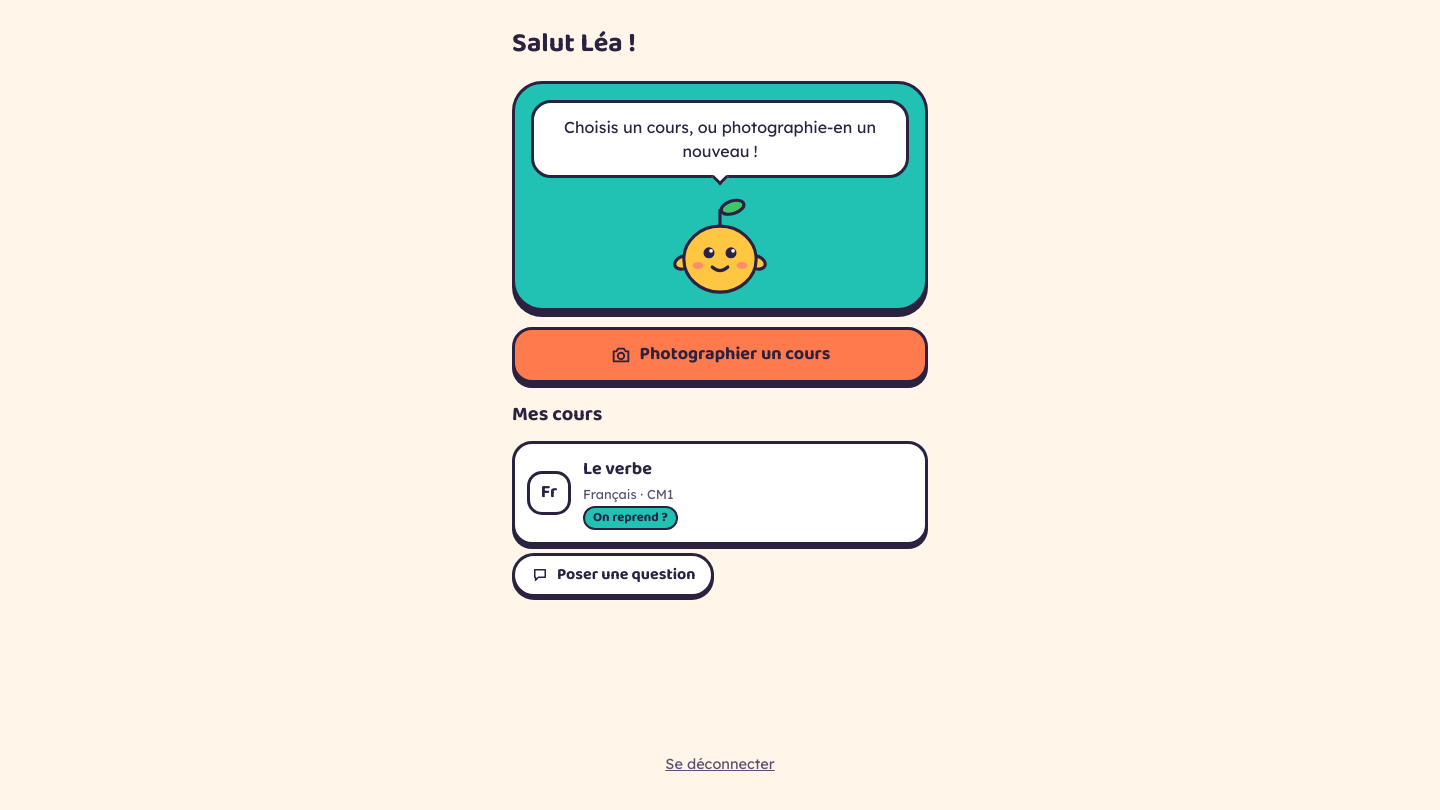
MainScreens: the Jouer tab › the tabs move between Lire and Jouer, and back home; a single « Accueil » button
Click the button "Fr Le verbe Français · CM1 On reprend ?" at coordinates (549, 492), box x1=512 y1=440 x2=928 y2=544
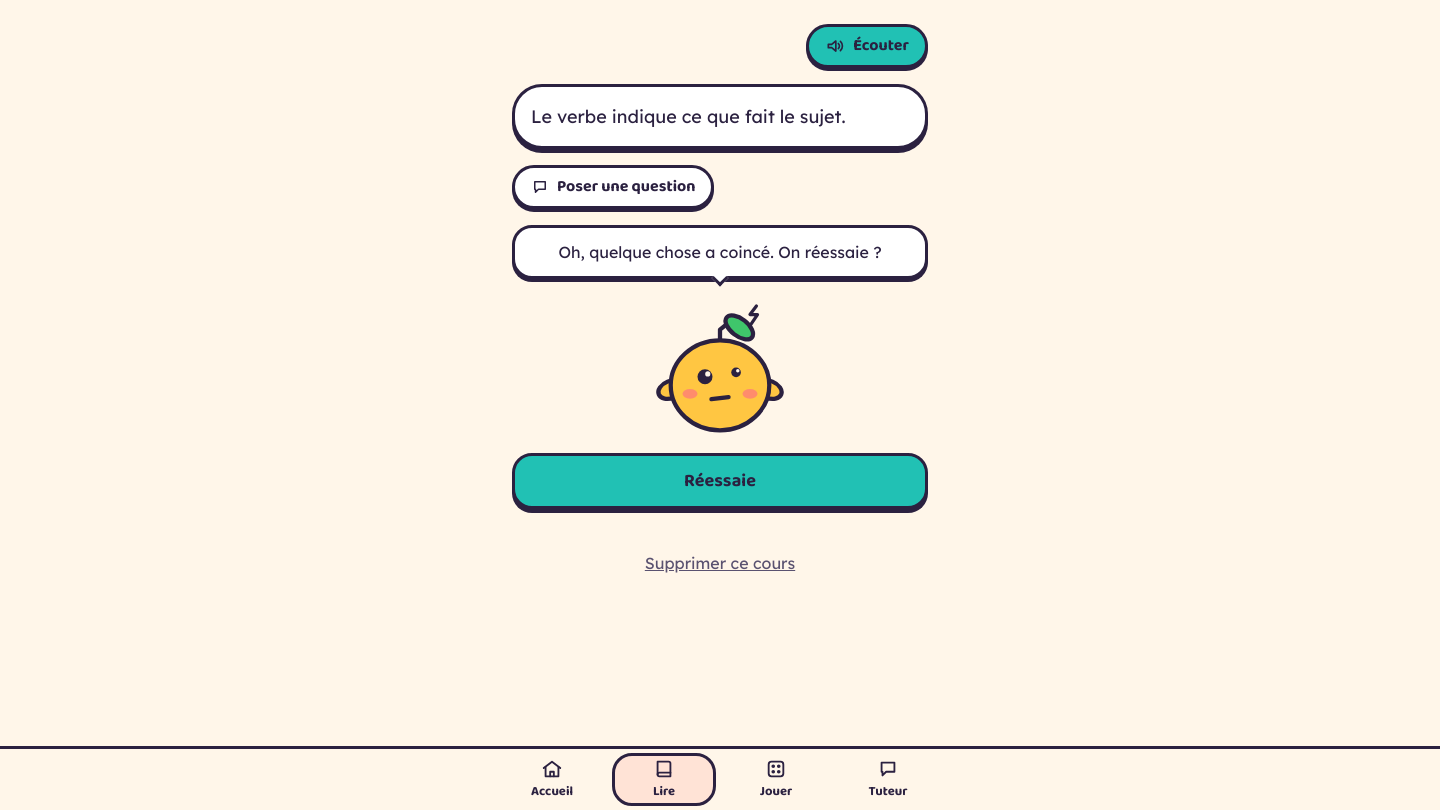
expect the text "Le verbe indique ce que fait le sujet." is shown: met, box x1=531 y1=105 x2=846 y2=128
Click the button "Jouer" at coordinates (776, 779), box x1=720 y1=748 x2=832 y2=809
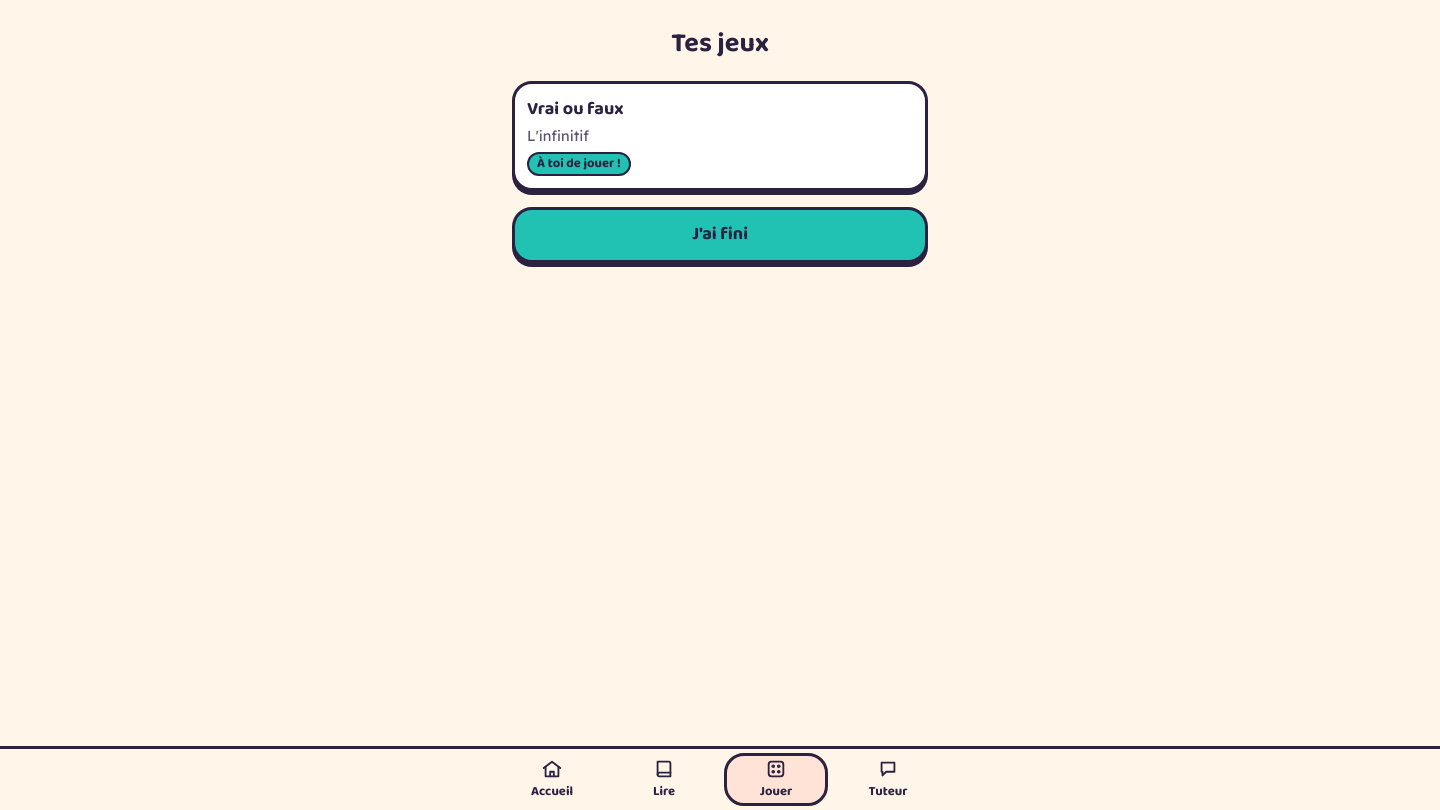
expect the heading "Tes jeux" is shown: met, box x1=671 y1=24 x2=769 y2=64
Click the button "Lire" at coordinates (664, 779), box x1=608 y1=748 x2=720 y2=809
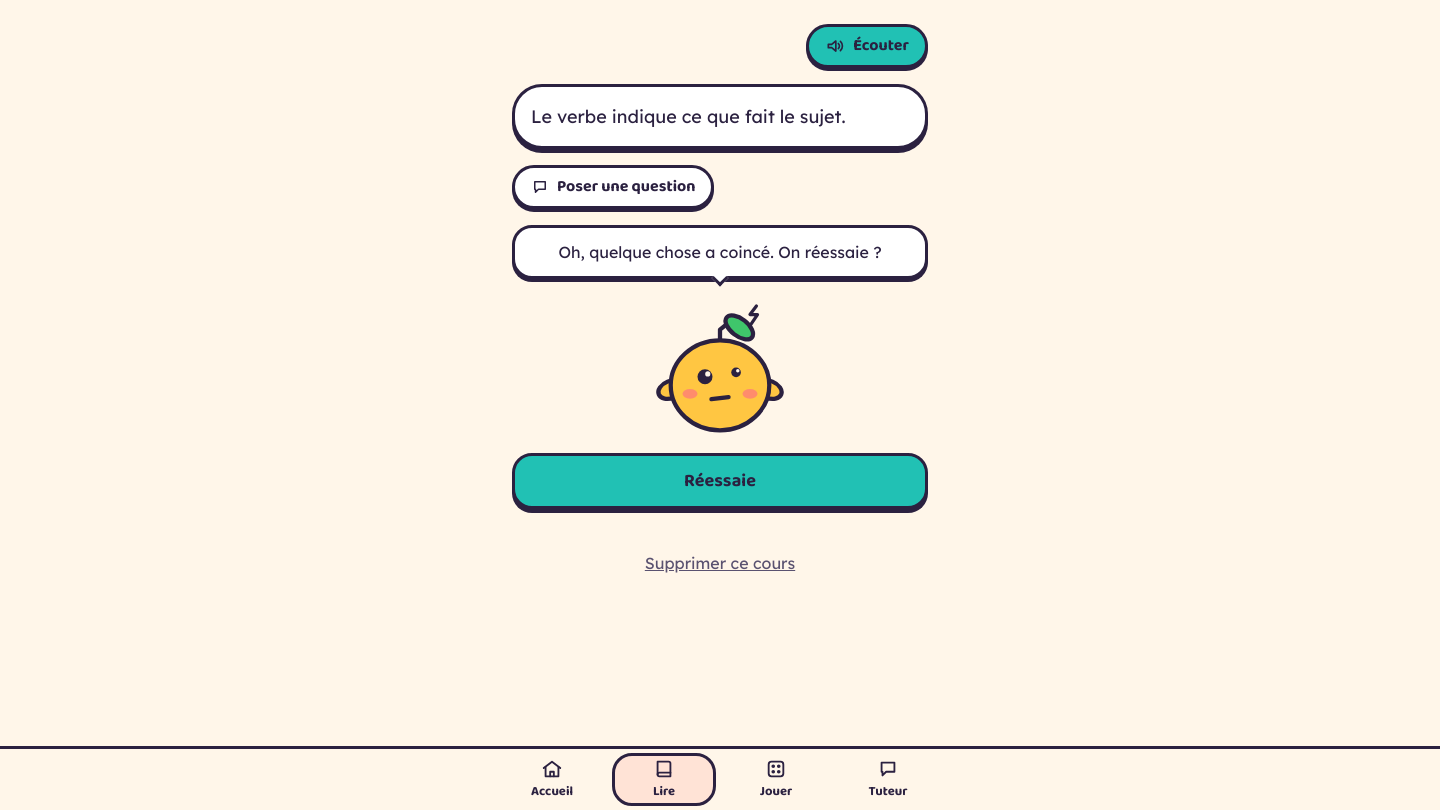
expect the text "Le verbe indique ce que fait le sujet." is shown: met, box x1=531 y1=105 x2=846 y2=128
Click the button "Accueil" at coordinates (552, 779), box x1=496 y1=748 x2=608 y2=809
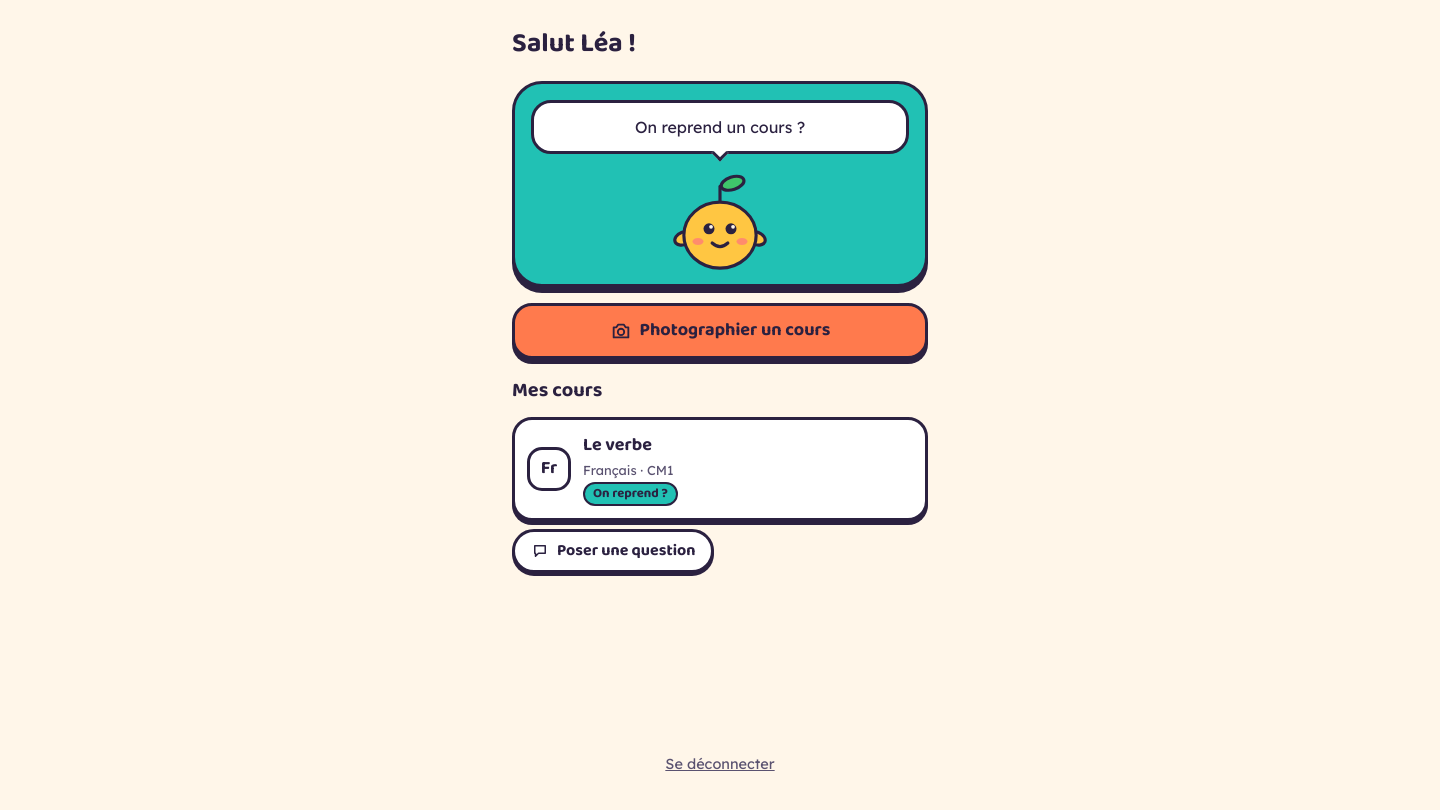
expect the heading "Mes cours" is shown: met, box x1=512 y1=374 x2=602 y2=406
